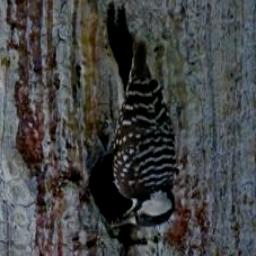Woodpecker: (100, 3, 183, 234)
